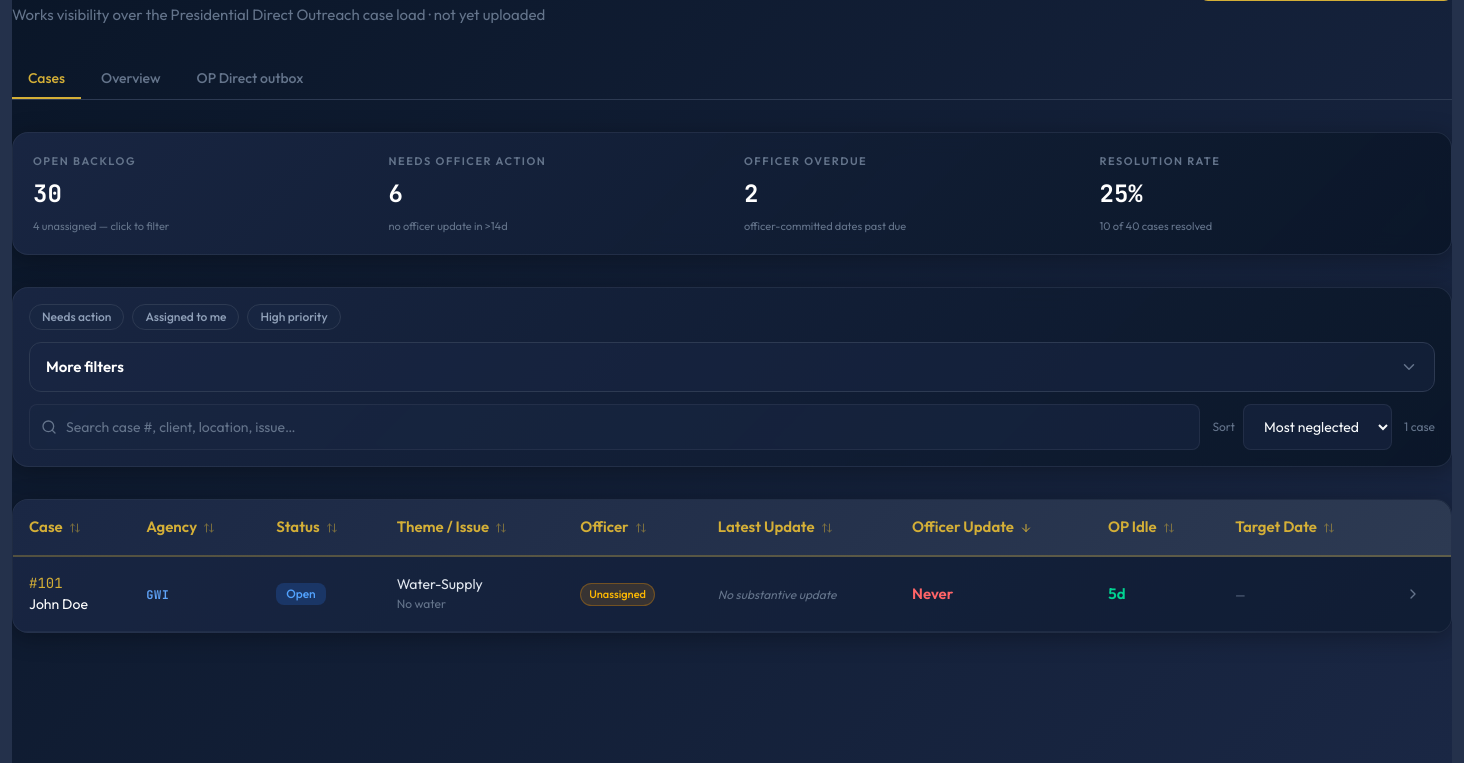
Test case: zero-result empty state › distinguishes filtered-empty from empty, and Clear filters resets to default params
Check: the text "John Doe" is shown, box [29,595,88,613]
What coordinates should you click on to do the following:
click the button "High priority"
I would click on:
 (294, 317)
Its box is [248,304,341,330].
(page scrolled)
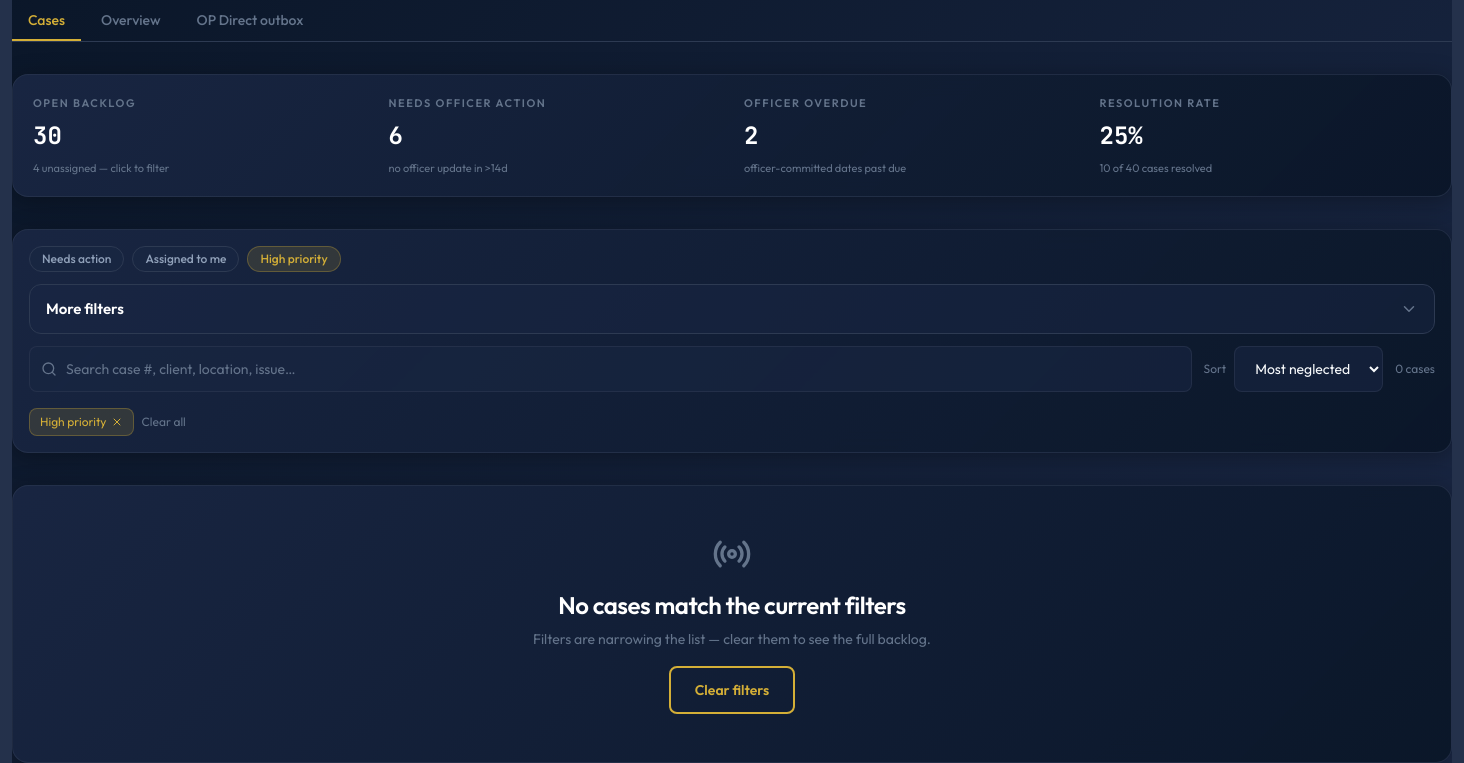
Check: the heading "No cases match the current filters" is shown, box [558,590,906,622]
What coordinates should you click on to do the following:
click the button "Clear filters"
I would click on:
 (732, 690)
Its box is [669,666,795,714].
(page scrolled)
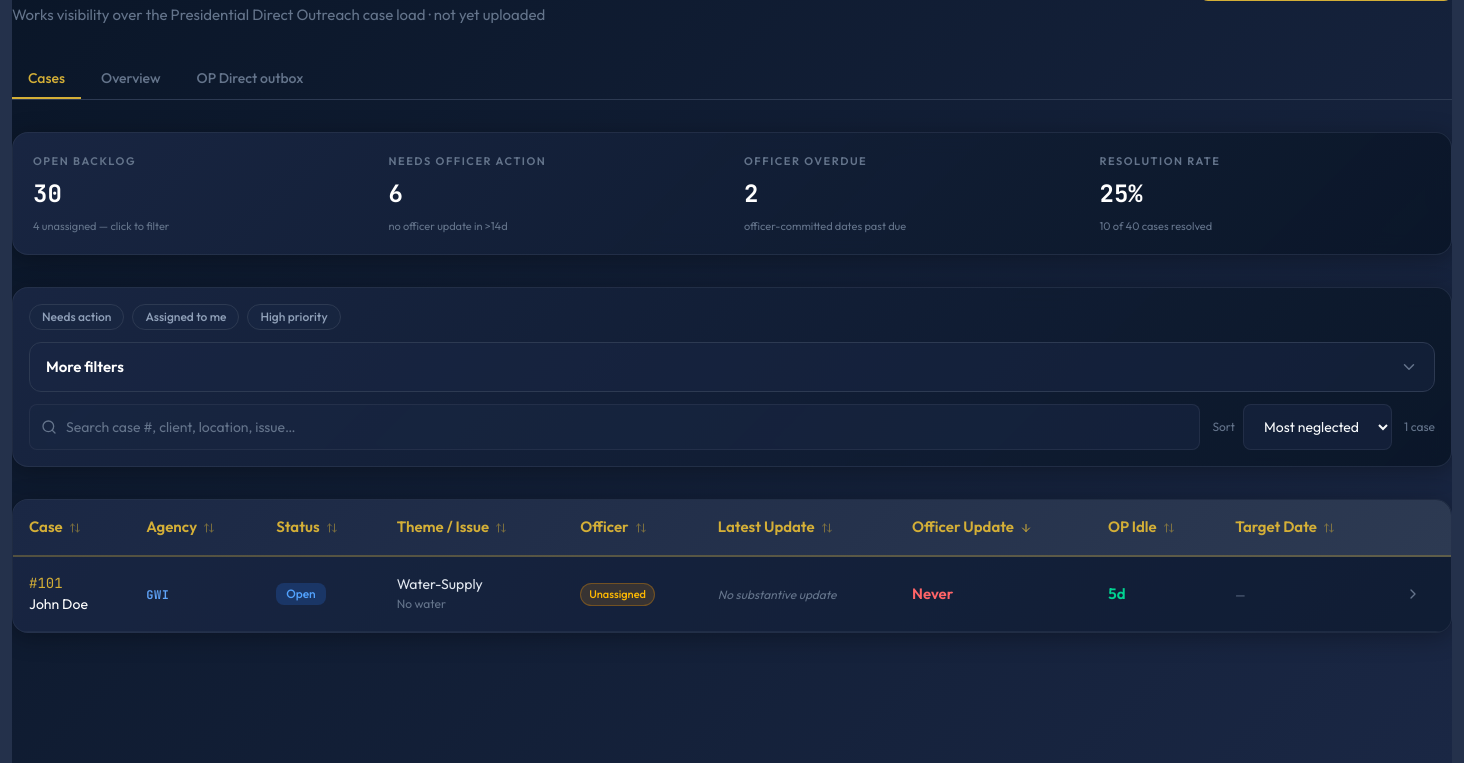
Check: the text "John Doe" is shown, box [29,595,88,613]
